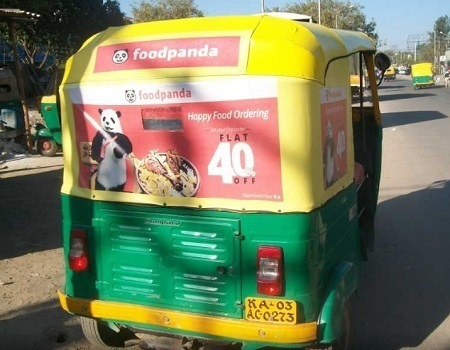doublelinenumberplate: (242, 294, 300, 325)
